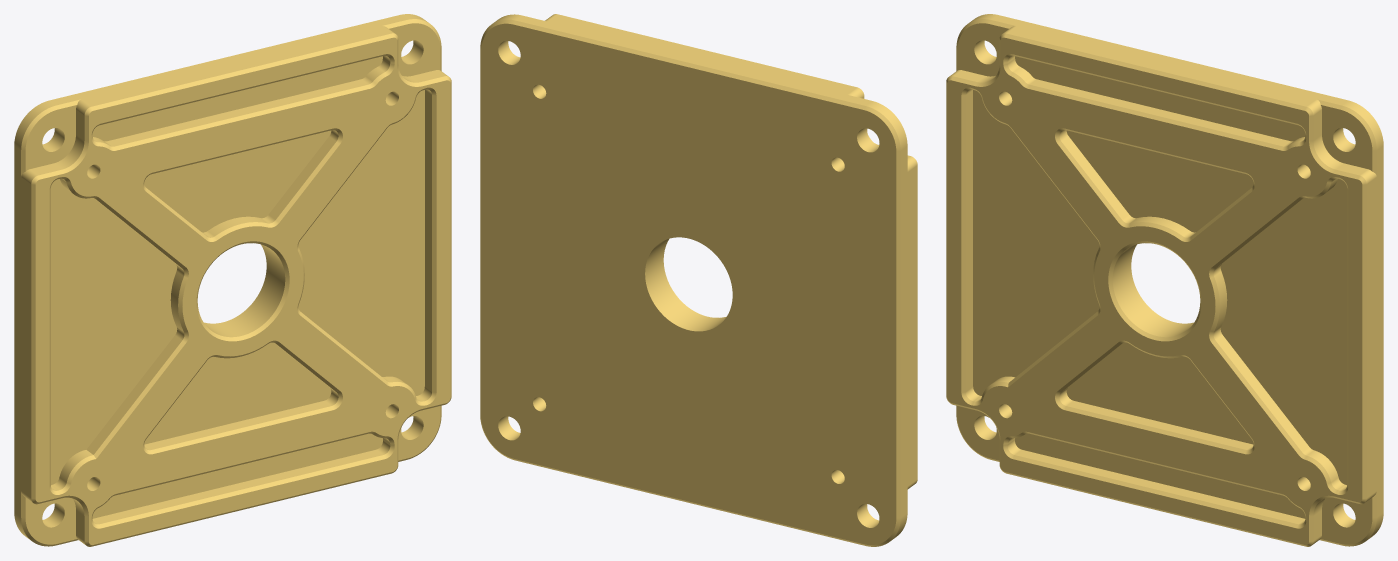
File: base_plate - Part 1.obj
The picture shows the model from 3 angles, left to right: view 1: azimuth 30°, elevation 25°; view 2: azimuth 150°, elevation 25°; view 3: azimuth 330°, elevation 25°; orthographic projection.
Visible parts, largest first — view 1: mesh87, mesh147, mesh114, mesh164, mesh231, mesh34, mesh74, mesh214, mesh189, mesh85, mesh190, mesh148 (+21 smaller); view 2: mesh80, mesh34, mesh74, mesh85, mesh36, mesh38, mesh45, mesh40, mesh17; view 3: mesh87, mesh114, mesh147, mesh164, mesh231, mesh63, mesh74, mesh214, mesh189, mesh85, mesh190, mesh115 (+21 smaller).
Boxes of the visible parts, x1,y1,x2,y2 form: mesh87: (35,37,450,544); mesh147: (298,90,424,395); mesh114: (51,179,177,484); mesh164: (144,130,331,232); mesh231: (144,342,331,444); mesh34: (14,146,31,516); mesh74: (49,15,405,106); mesh214: (92,56,382,141); mesh189: (92,433,382,518); mesh85: (204,244,285,337); mesh190: (93,450,382,523); mesh148: (425,90,431,391); mesh80: (481,23,896,544); mesh34: (900,146,917,517); mesh74: (515,14,871,105); mesh85: (645,239,726,331); mesh36: (896,151,900,518); mesh38: (514,20,865,109); mesh45: (480,49,481,416); mesh40: (514,459,865,545); mesh17: (866,101,907,150); mesh87: (947,37,1362,544); mesh114: (973,90,1099,395); mesh147: (1220,179,1346,484); mesh164: (1066,130,1253,232); mesh231: (1066,342,1253,444); mesh63: (1366,146,1383,516); mesh74: (992,15,1348,106); mesh214: (1015,56,1305,141); mesh189: (1015,433,1305,518); mesh85: (1112,244,1193,337); mesh190: (1015,450,1304,523); mesh115: (966,90,972,391).
Bounding box in the file's own units: 0.0762 × 0.0762 × 0.00635.
